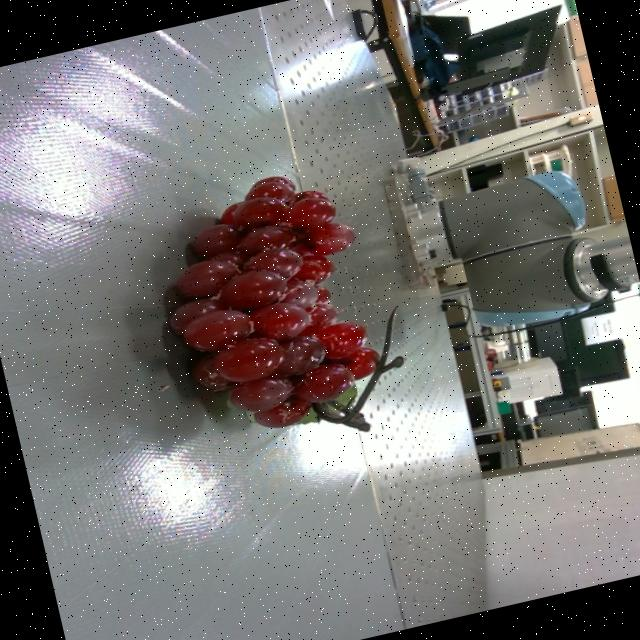grape: (168, 175, 404, 430)
